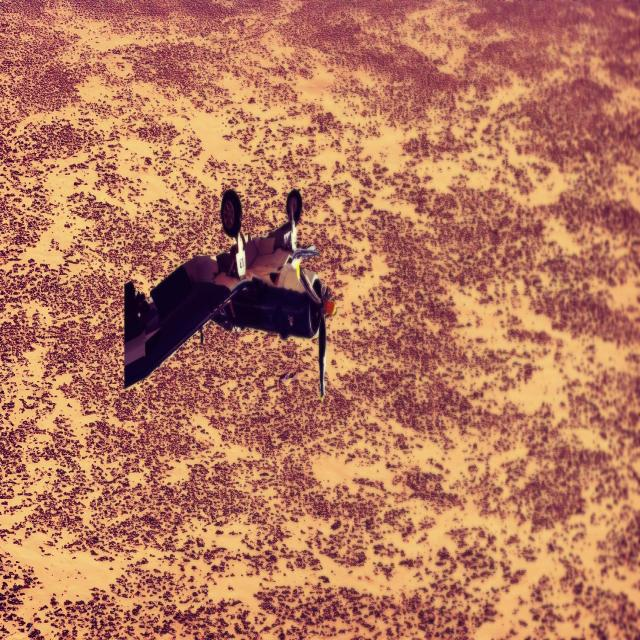airplane: (123, 187, 337, 401)
